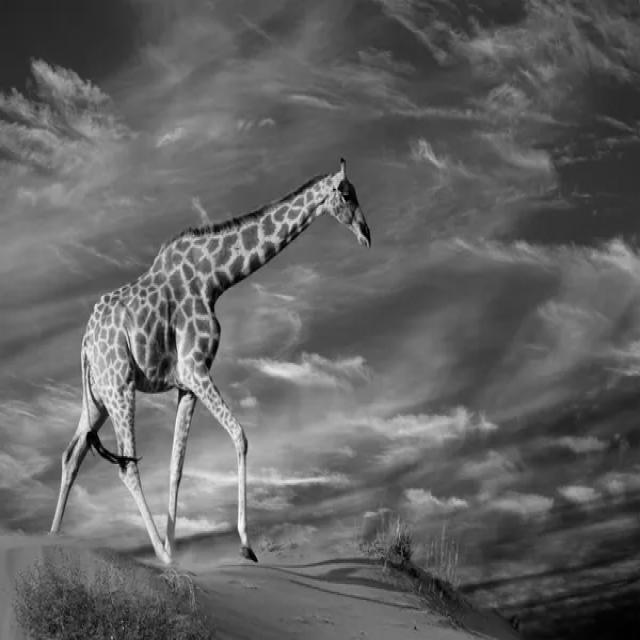Animal: (51, 160, 371, 564)
